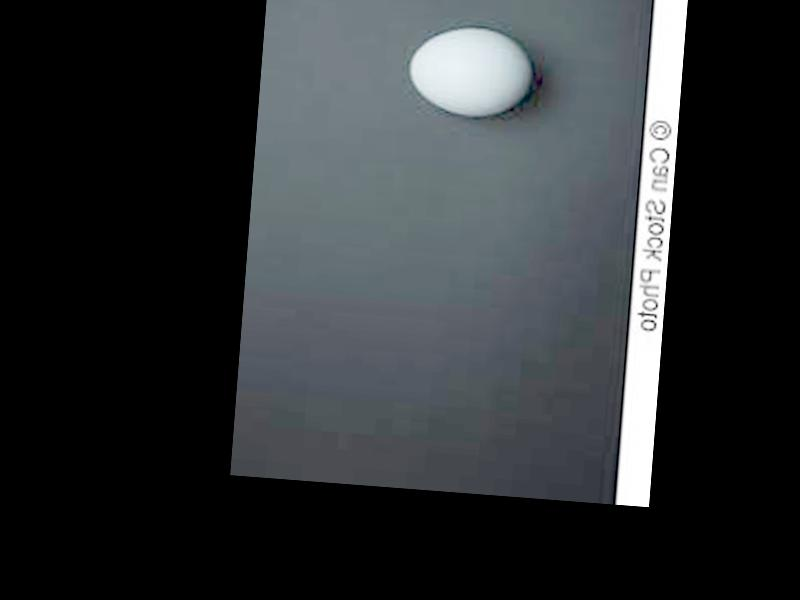Eggs: (406, 21, 533, 119)
